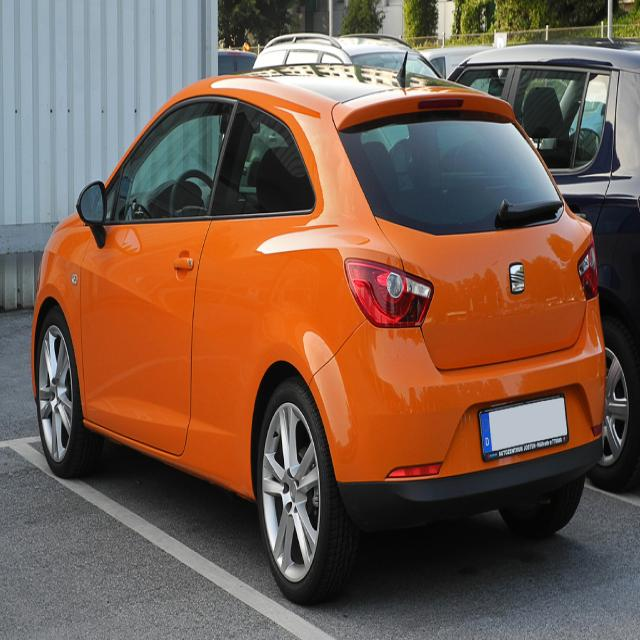car: (27, 48, 602, 602)
